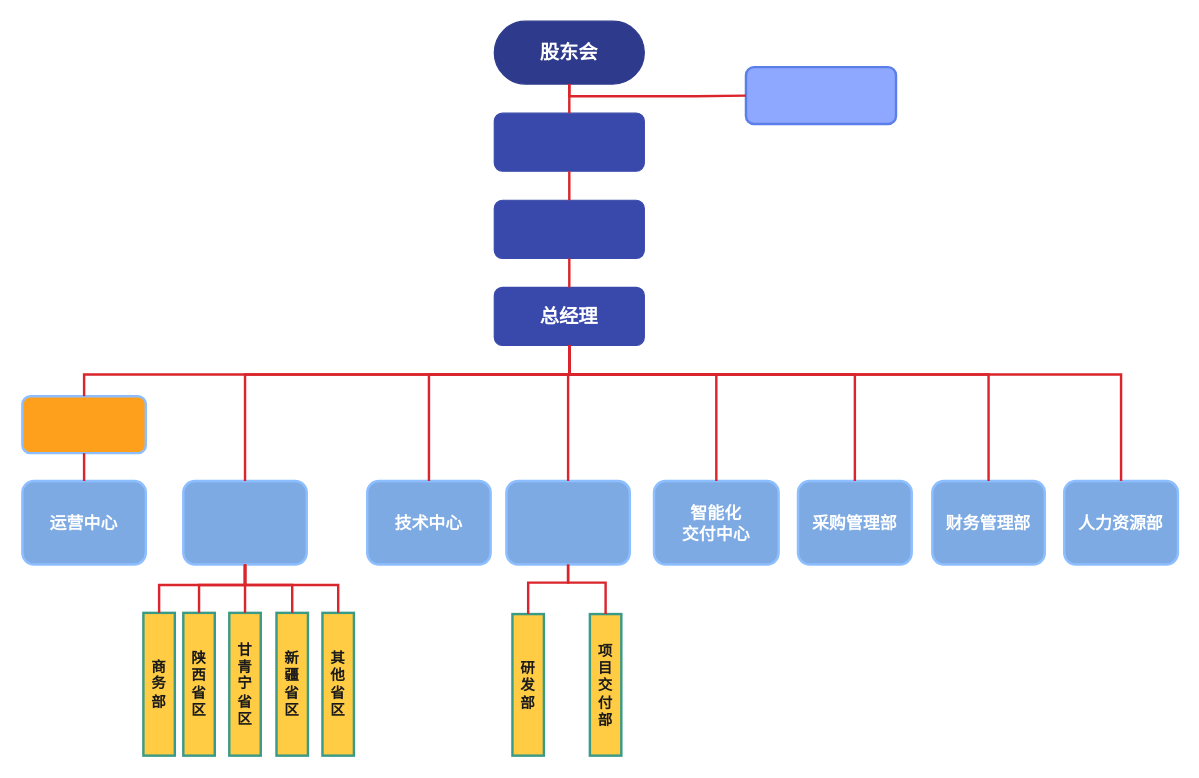
This 1199x778 diagram has some shape labels left out. Each missing label, with the centre of its shape:
信息化 交付中心: (x=567, y=522)
副总经理: (x=83, y=424)
监事会: (x=820, y=95)
营销中心: (x=244, y=522)
董事会: (x=568, y=141)
董事长: (x=568, y=228)
